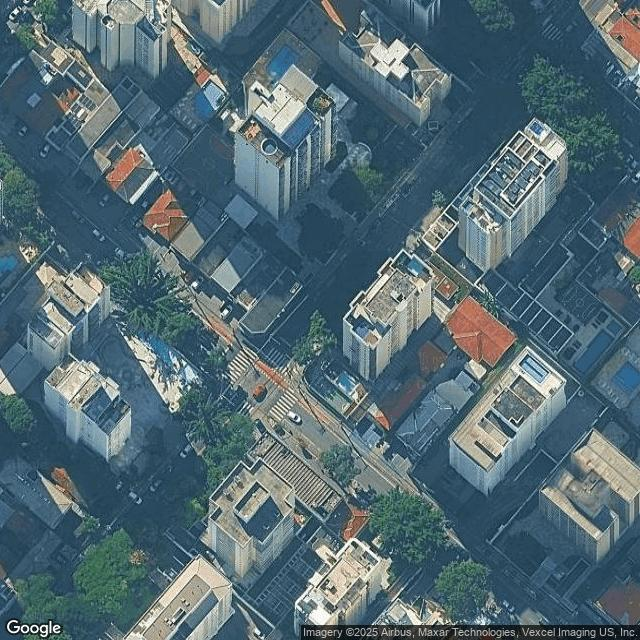pool: (196, 99, 219, 122), (156, 348, 173, 372), (618, 379, 630, 400), (7, 258, 21, 275), (277, 61, 289, 80), (597, 347, 604, 377)
